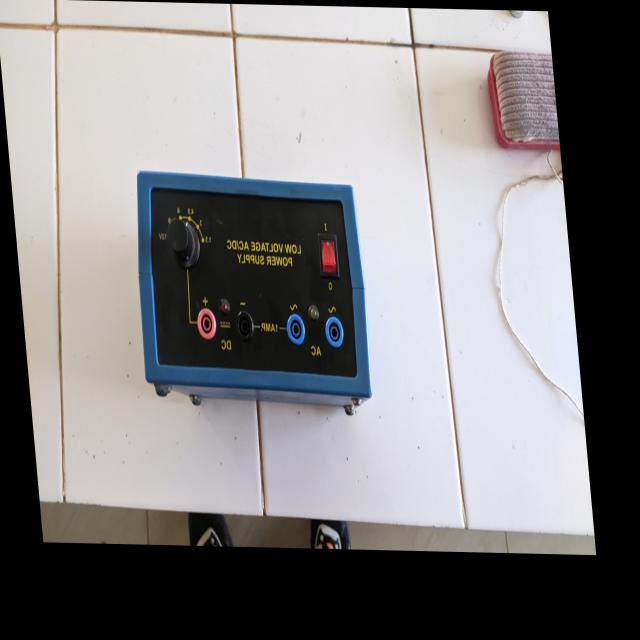Low Voltage AC-DC Power Supply 12 V: (116, 154, 381, 440)
